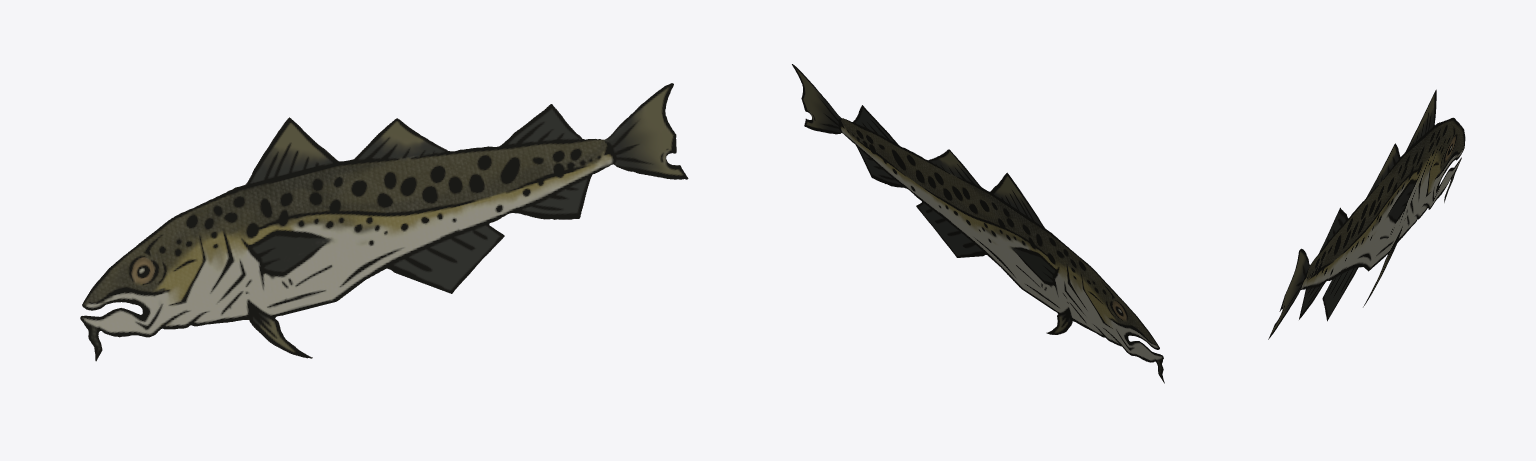
The model's file is fish.glb.
3 views of the same model, side by side, from view 1: azimuth 30°, elevation 25°; view 2: azimuth 150°, elevation 25°; view 3: azimuth 270°, elevation 25° (orthographic). The views are drawn at different scales.
Parts seen in each view (by area): view 1: fish_geo; view 2: fish_geo; view 3: fish_geo.
Boxes of the visible parts, box(x1,y1,x2,y2) form: fish_geo: box(80, 83, 688, 361); fish_geo: box(792, 64, 1164, 383); fish_geo: box(1268, 89, 1465, 339).
Size of the model in its own units: 0.1578 by 0.0867 by 0.0659.
1 material, 1 textured.
